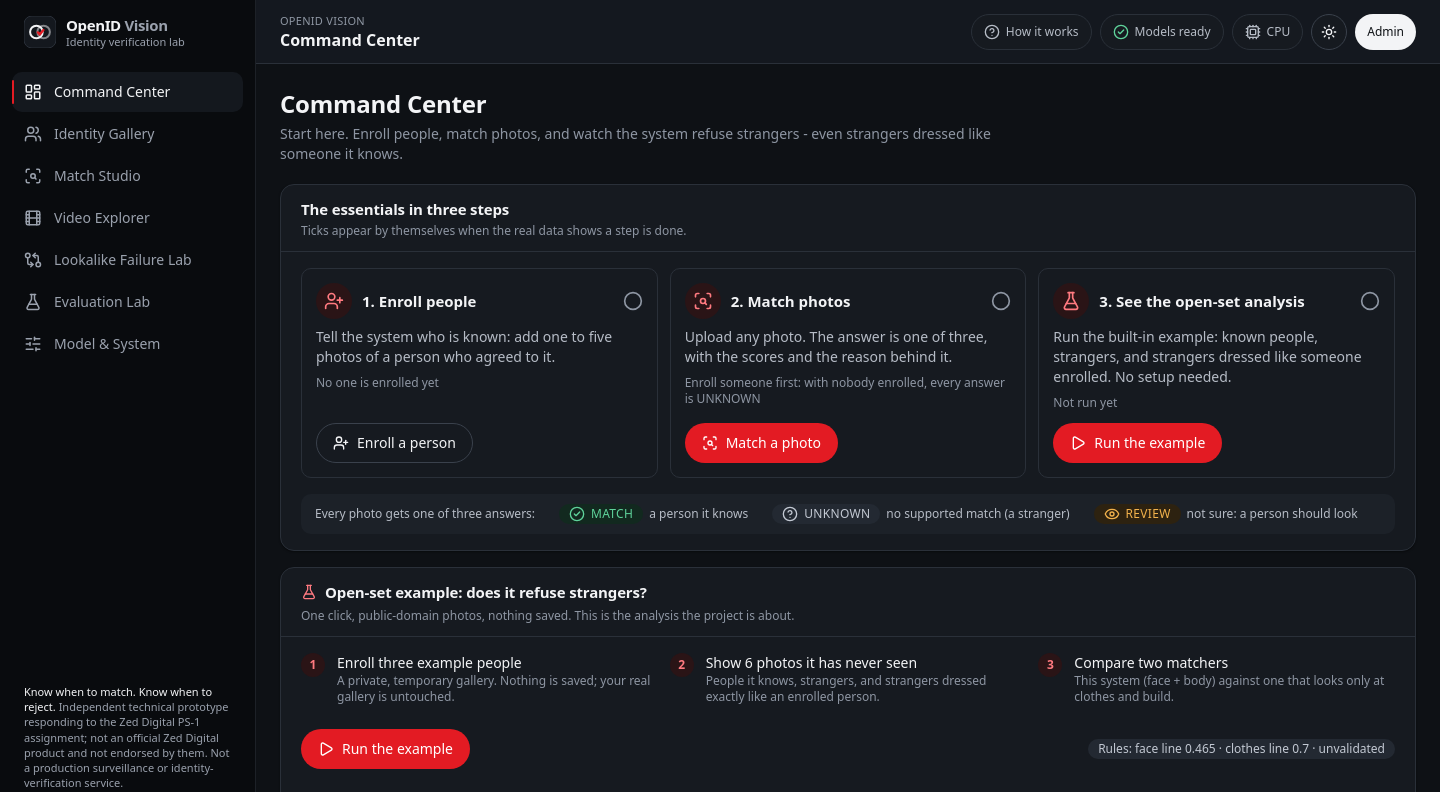
home page: the open-set example › draws the face and clothing plots with their lines and explains what the gap means
The image size is (1440, 792).
Click the button "Run the example" below "See the open-set analysis" at coordinates (1138, 443), box [1053, 423, 1222, 463]
(page scrolled)
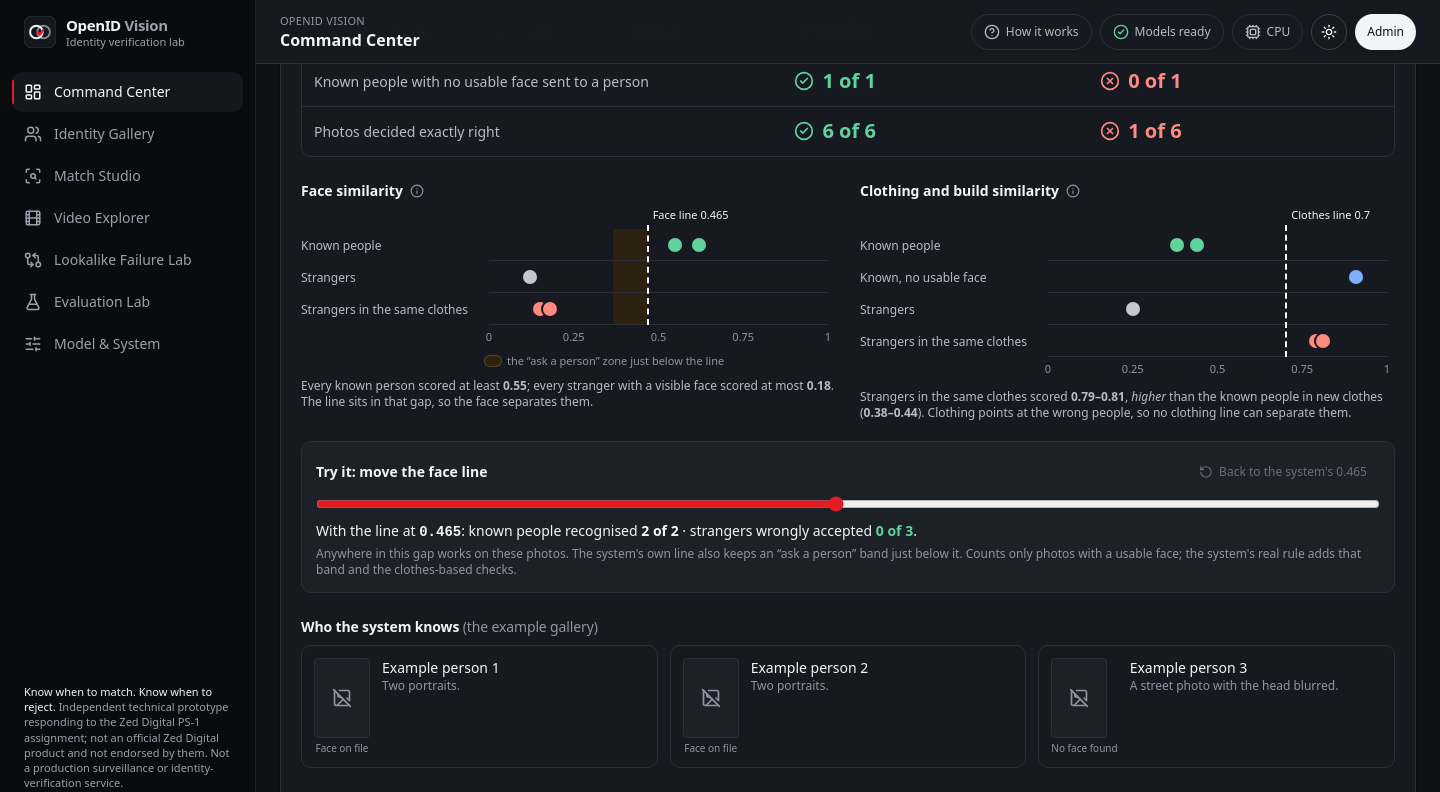
Result: the picture named "Face similarity. Known people: 0.62, 0.55; Strangers: 0.12;" is shown at [301, 205, 836, 349]
Result: the picture named "Clothing and build similarity. Known people: 0.44, 0.38; Kno" is shown at [860, 205, 1395, 381]
Result: the text "every stranger with a visible face scored at most" shows "0.55" at [503, 376, 527, 394]
